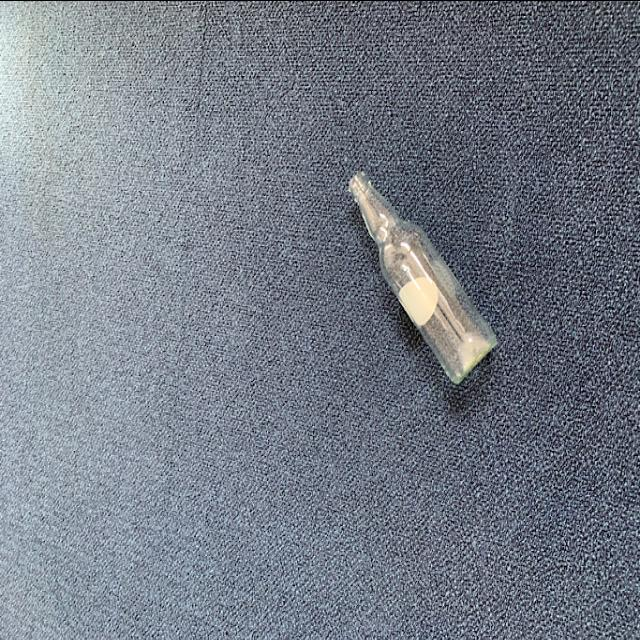Glass Bottle: (343, 158, 507, 386)
